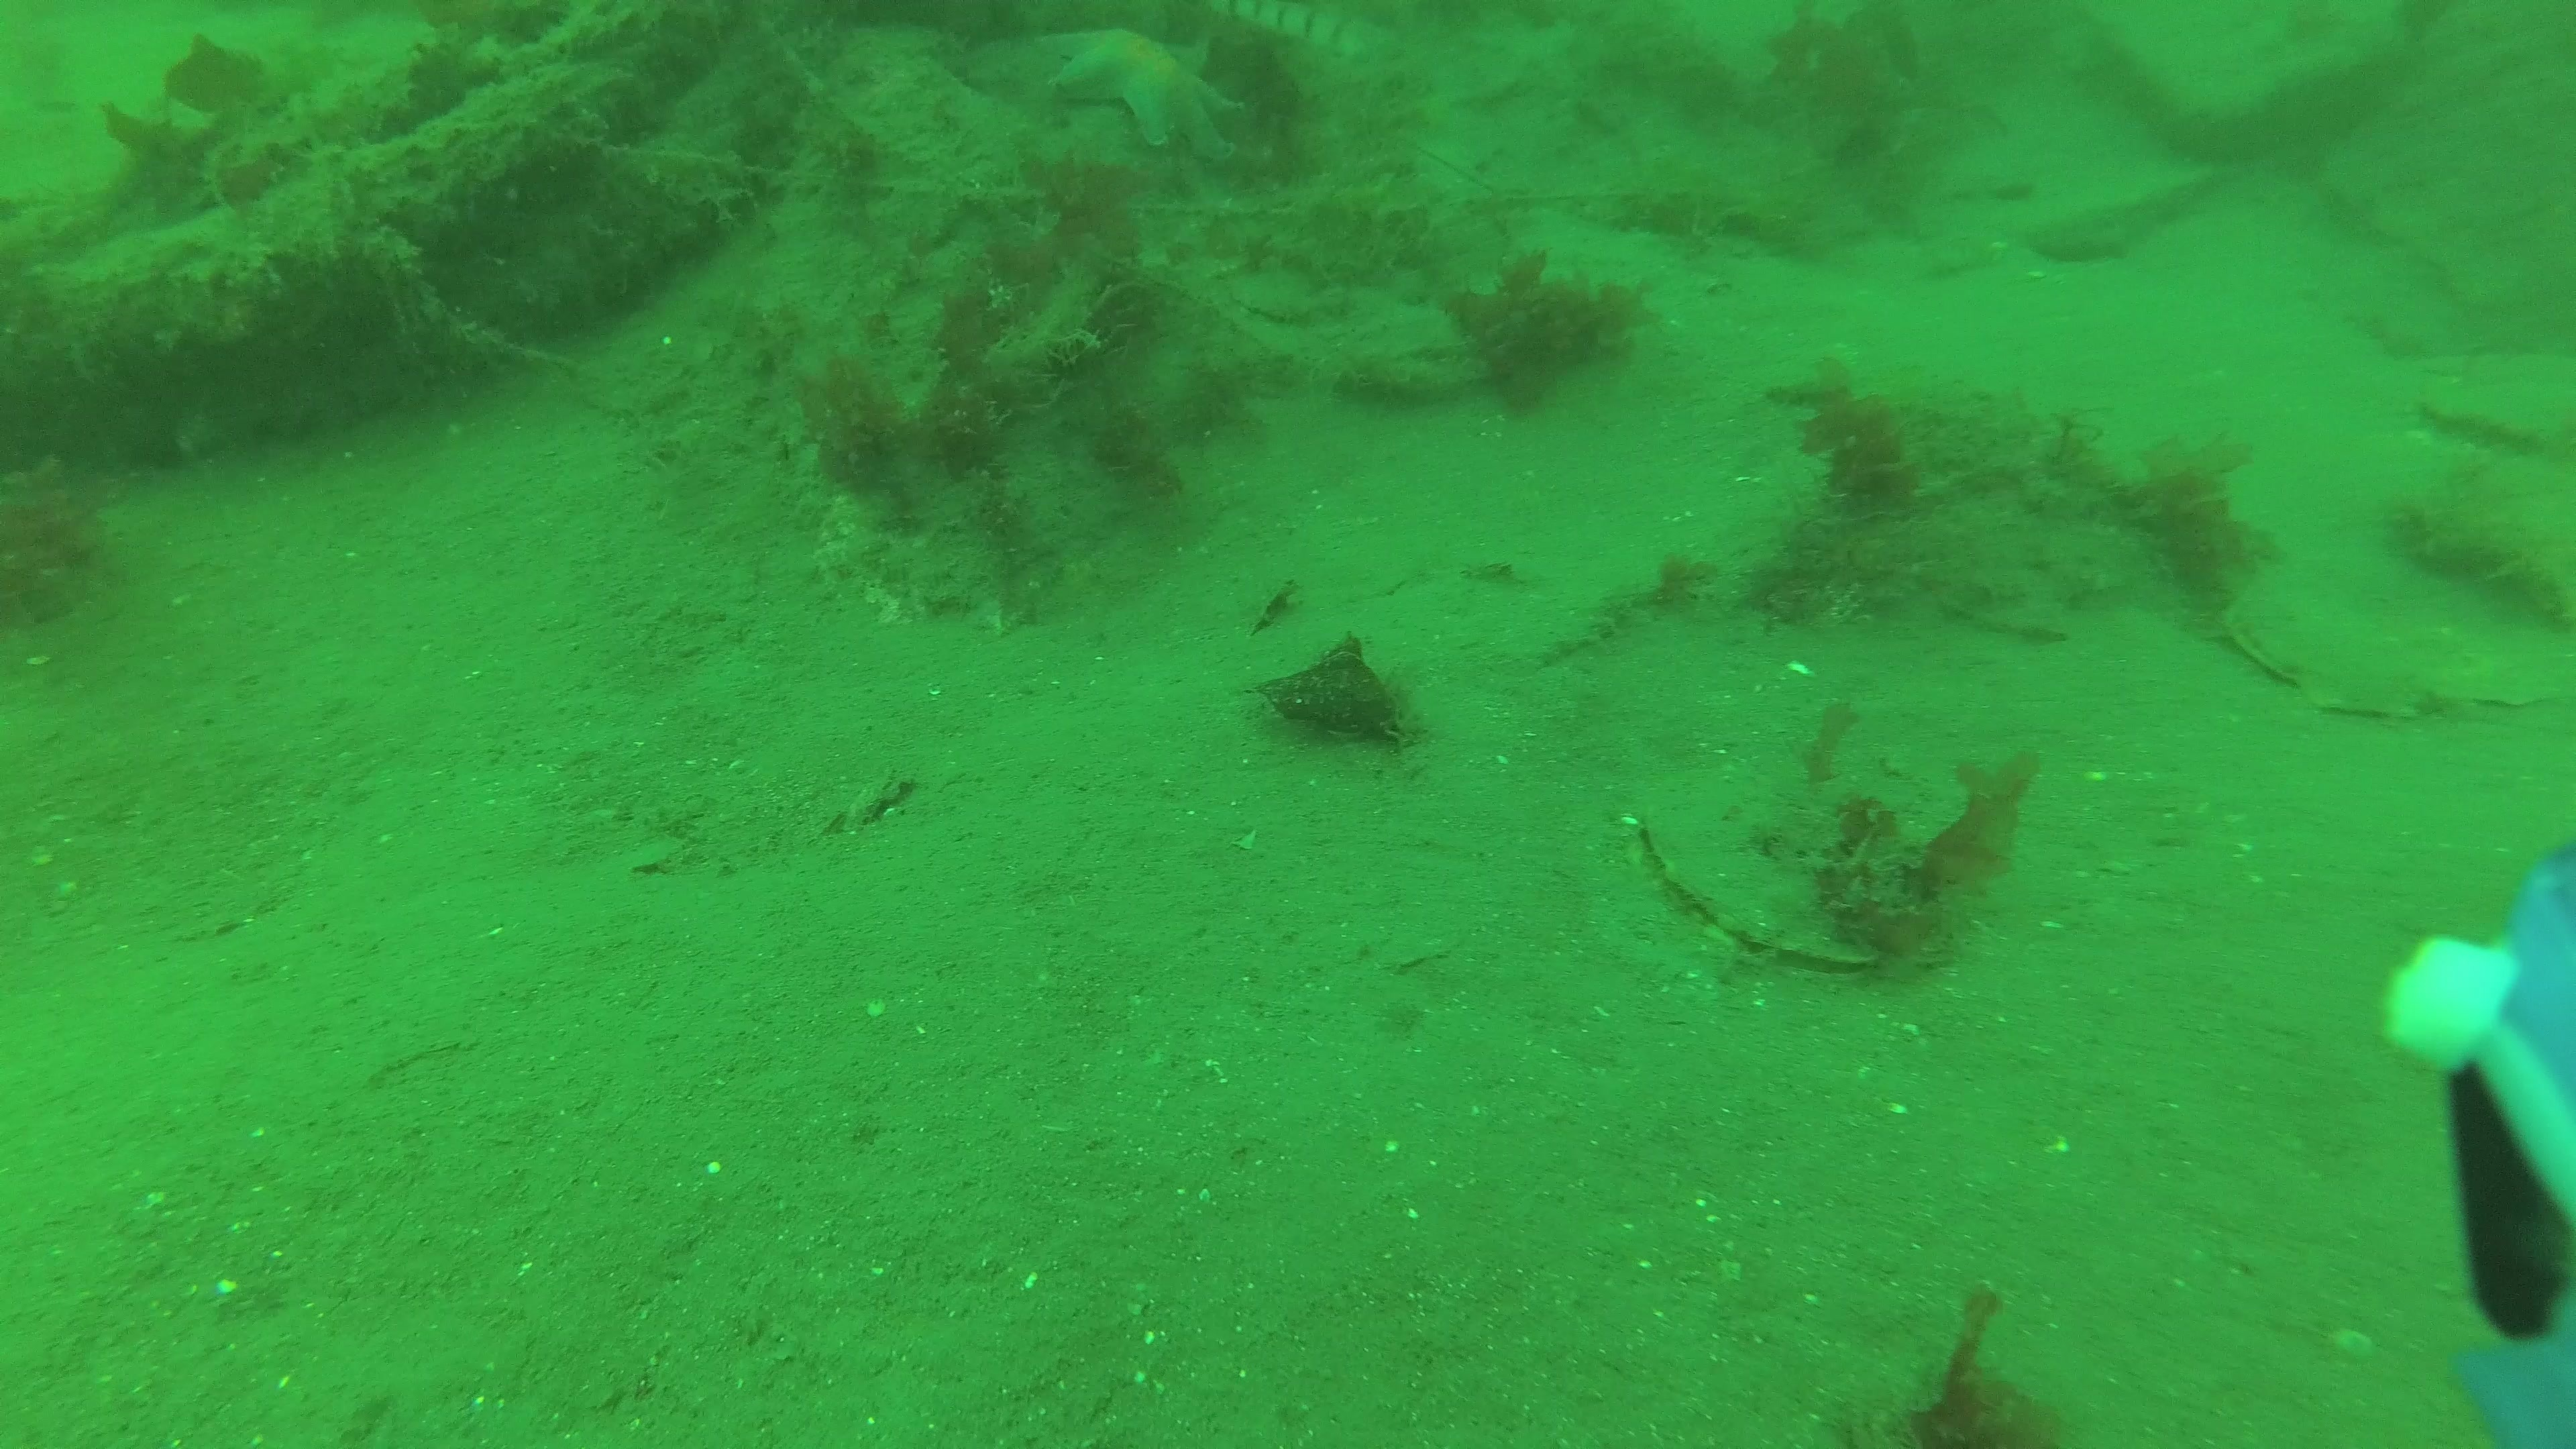starfish: (1044, 34, 1247, 163)
